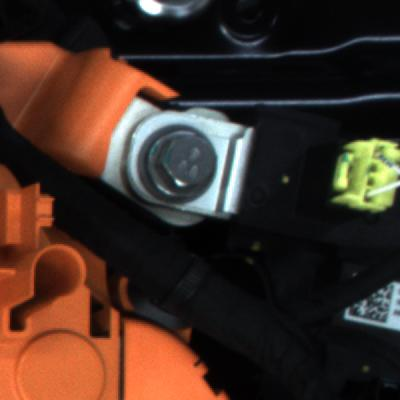nut_b: (135, 118, 228, 207)
